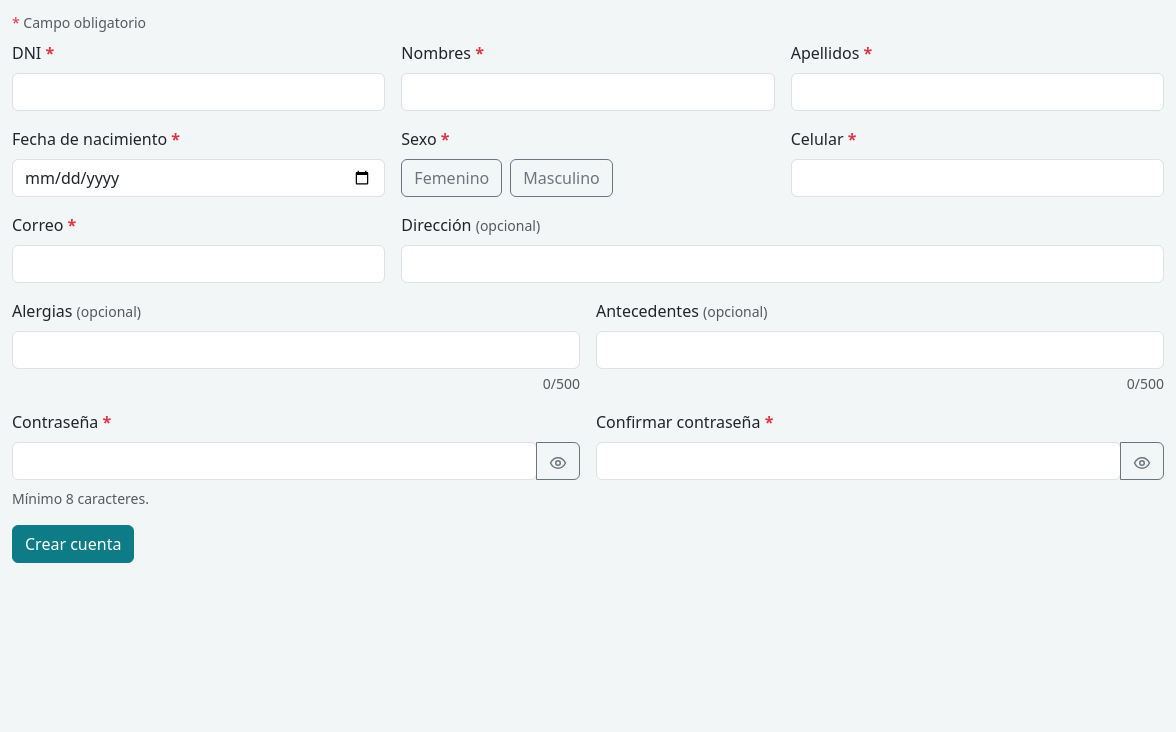
Scenario: Confirmar contraseña › registro web: pide confirmar la contraseña
Type "Dientes2027" into the password field labelled "Contraseña" at (274, 461), box [12,442,537,480]
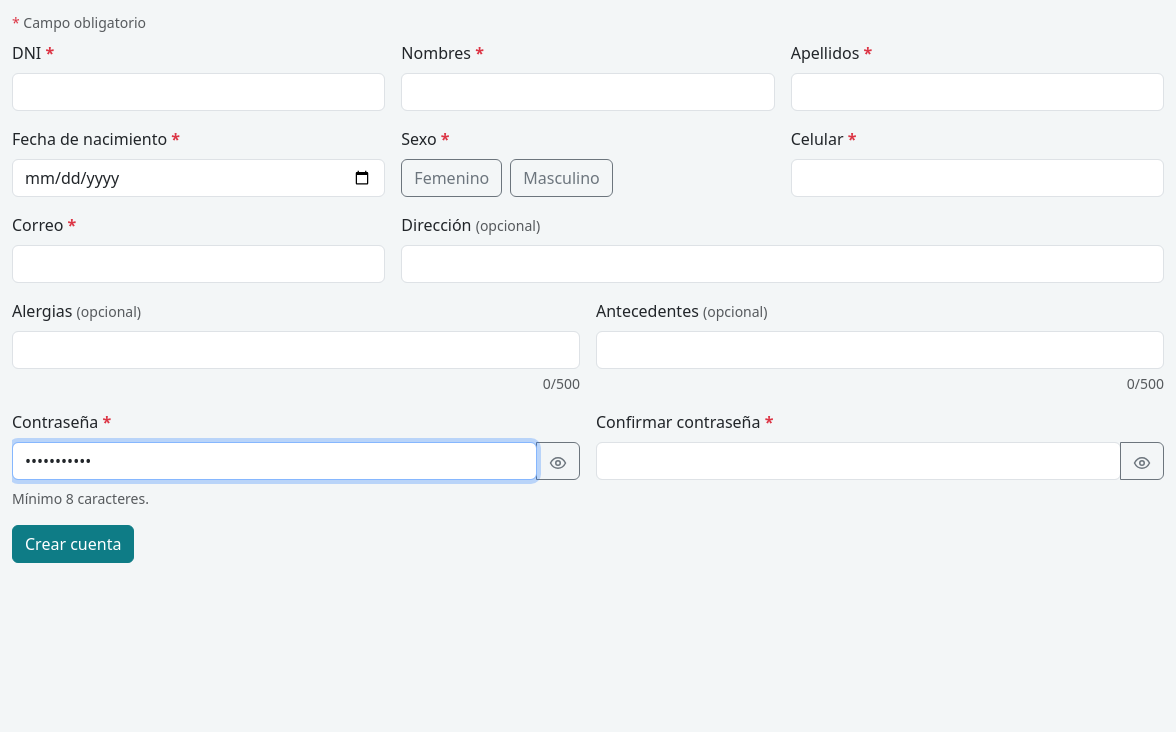
Click the button "Crear cuenta" at (73, 544), box [12,525,134,563]
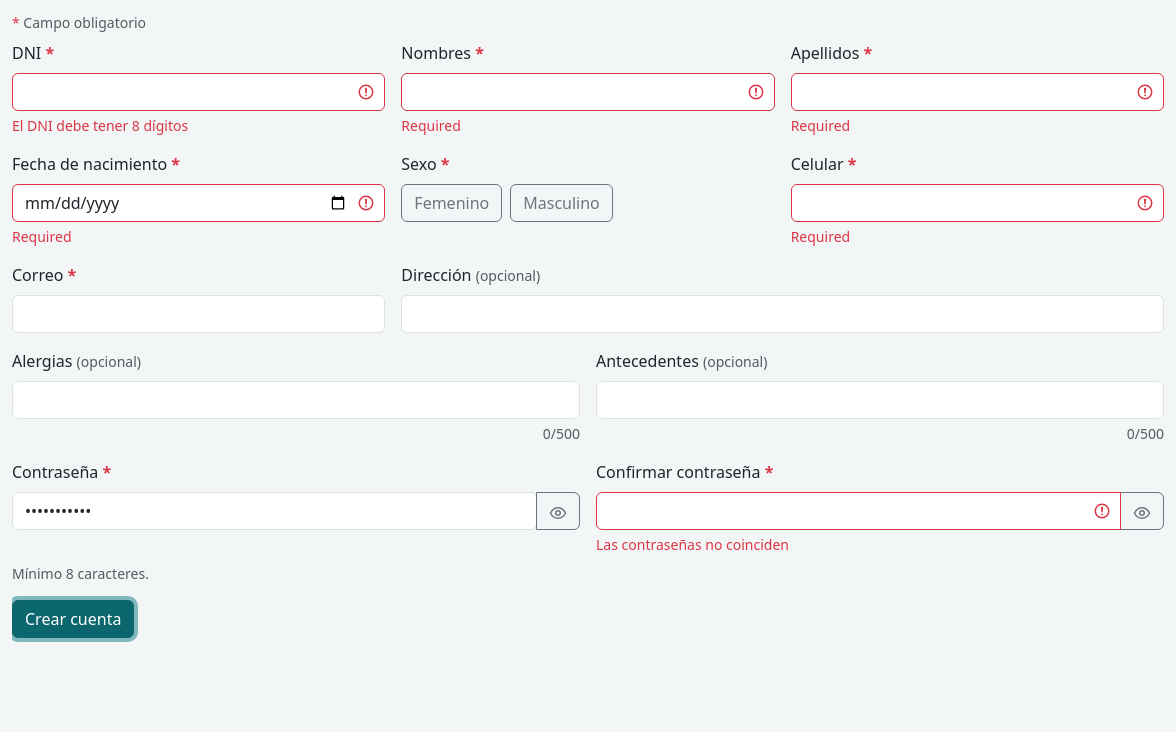
Result: the text "Las contraseñas no coinciden" is shown at [596,535,789,554]
